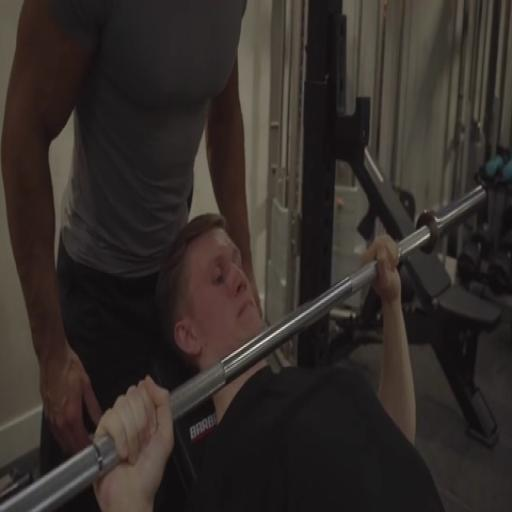exercise: (0, 0, 265, 509), (90, 212, 449, 510)
